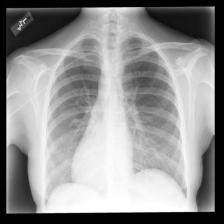normal: (40, 31, 192, 207)
